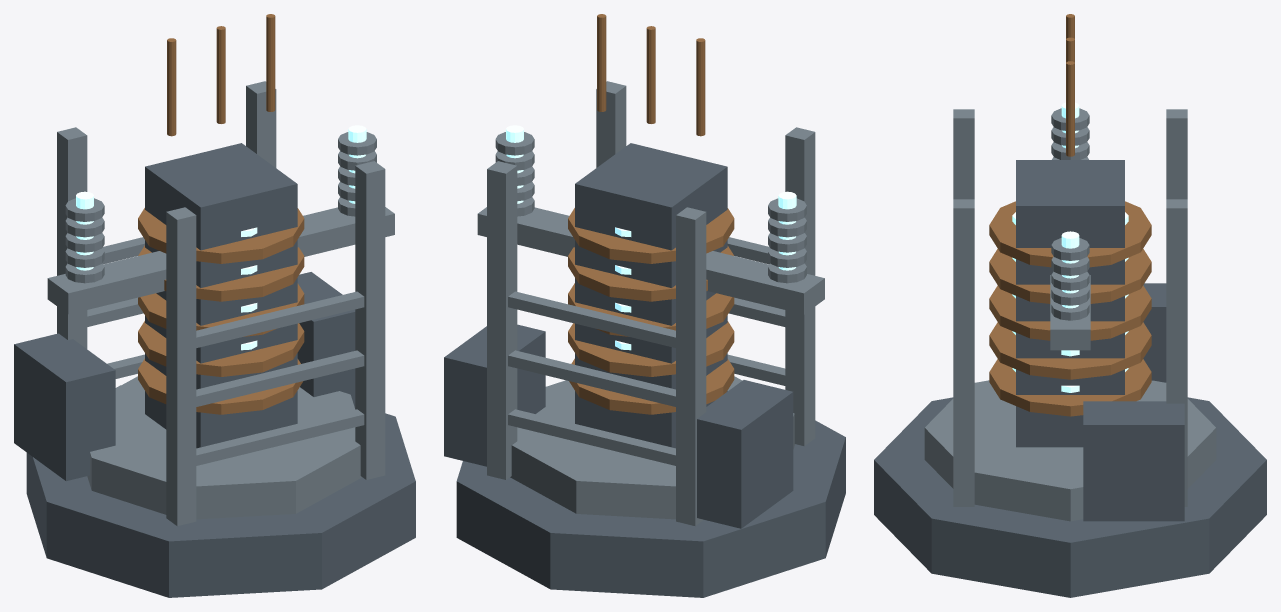
File: relay_t1_d0.meshopt.glb
3 renders of one model, left to right at view 1: azimuth 30°, elevation 25°; view 2: azimuth 150°, elevation 25°; view 3: azimuth 270°, elevation 25°, orthographic. The views are drawn at different scales.
Parts seen in each view (by area): view 1: BASE_ARMOR_GEOMETRY, BASE_SIGNAL_GEOMETRY; view 2: BASE_ARMOR_GEOMETRY, BASE_SIGNAL_GEOMETRY; view 3: BASE_ARMOR_GEOMETRY, BASE_SIGNAL_GEOMETRY.
Part boxes in pixels (x1,y1,x2,y2): BASE_ARMOR_GEOMETRY: (14,14,415,597); BASE_SIGNAL_GEOMETRY: (76,125,366,350); BASE_ARMOR_GEOMETRY: (444,14,845,597); BASE_SIGNAL_GEOMETRY: (506,125,796,350); BASE_ARMOR_GEOMETRY: (874,14,1266,597); BASE_SIGNAL_GEOMETRY: (1012,102,1128,392).
Bounding box in the file's own units: 1.55 × 2.07 × 1.55.
